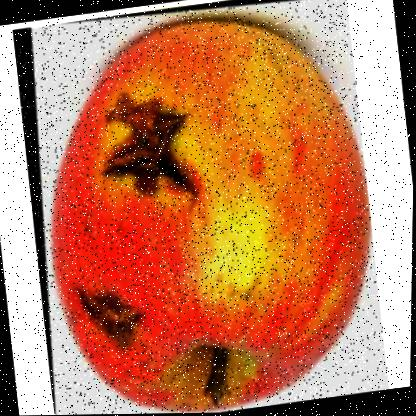apple_rotten: (7, 0, 397, 415)
